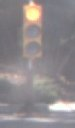Red: (22, 4, 40, 55)
